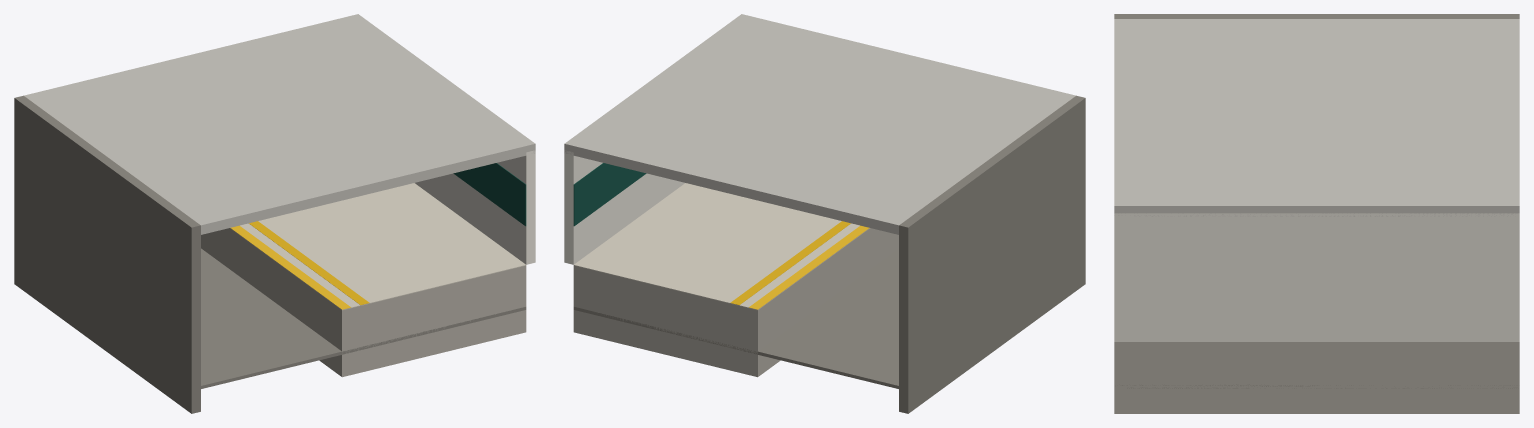
The model's file is PlatformUnderground.glb.
The picture shows the model from 3 angles, left to right: view 1: azimuth 30°, elevation 25°; view 2: azimuth 150°, elevation 25°; view 3: azimuth 270°, elevation 25°; orthographic projection. The views are drawn at different scales.
Parts seen in each view (by area): view 1: PlatformUnderground; view 2: PlatformUnderground; view 3: PlatformUnderground.
Part boxes in pixels (<box>): PlatformUnderground: <box>14,14,535,413</box>; PlatformUnderground: <box>564,14,1085,413</box>; PlatformUnderground: <box>1114,14,1519,413</box>.
Size of the model in its own units: 11.2 by 5.8 by 10.
